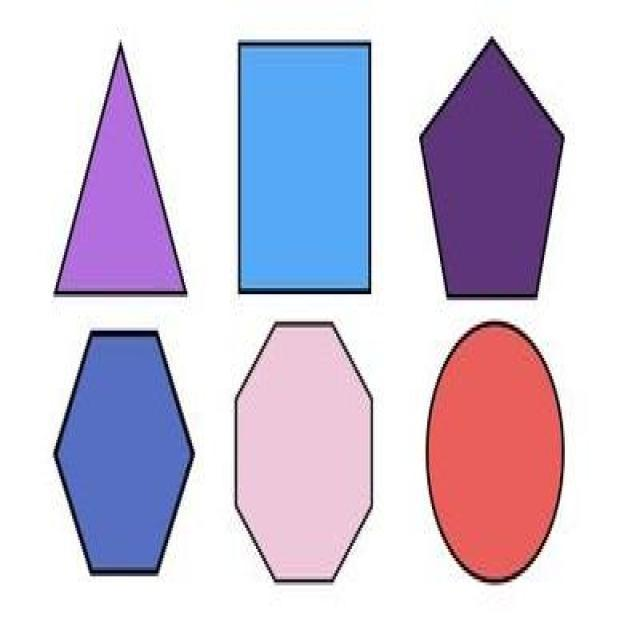circle: (412, 313, 574, 597)
square: (223, 29, 395, 306)
triangle: (32, 30, 213, 314)
